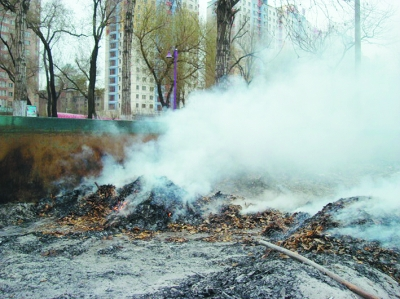smoke: (159, 42, 400, 202)
